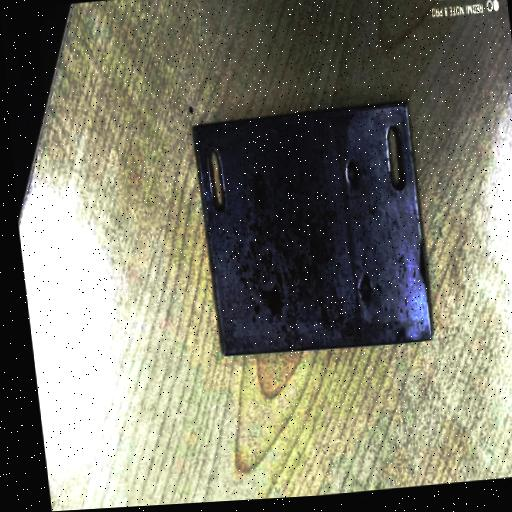corrosion: (227, 162, 340, 333)
